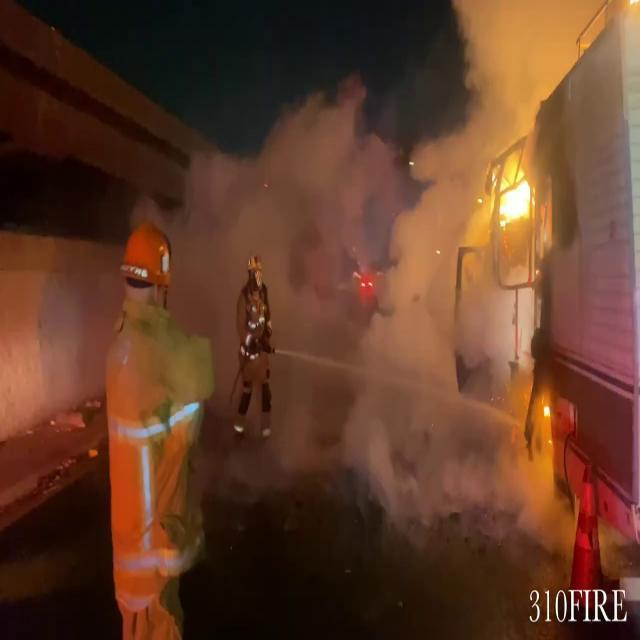Fire: (494, 157, 538, 235)
Smoke: (175, 38, 546, 486)
